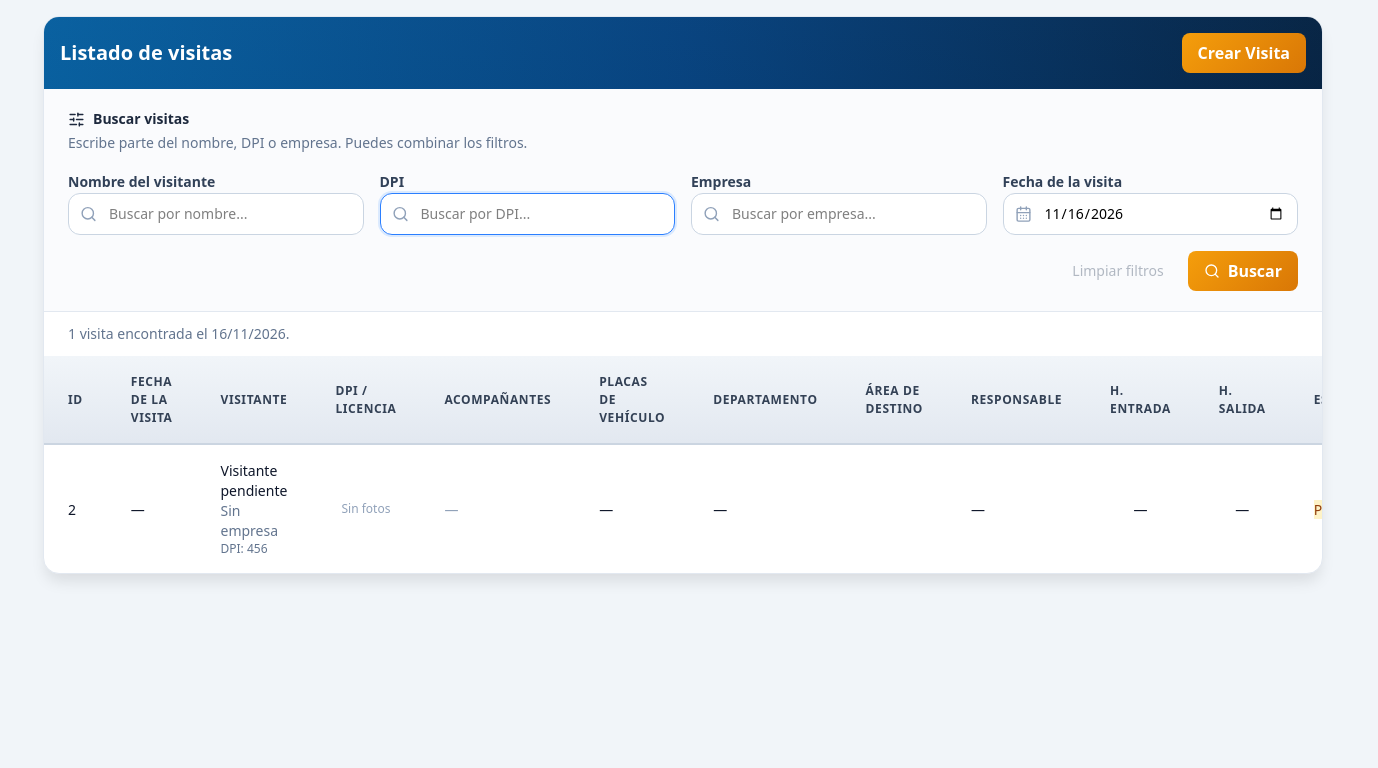
vigencia del estado de las visitas › permite seguir escribiendo en Buscar por DPI... mientras se consulta el filtro
Later steps or results of the test are not shown.
Step 1. Type "1" into the field with placeholder "Buscar por DPI..." → {"x": 527, "y": 214}, box [380,193,675,235]
Wait 450 ms
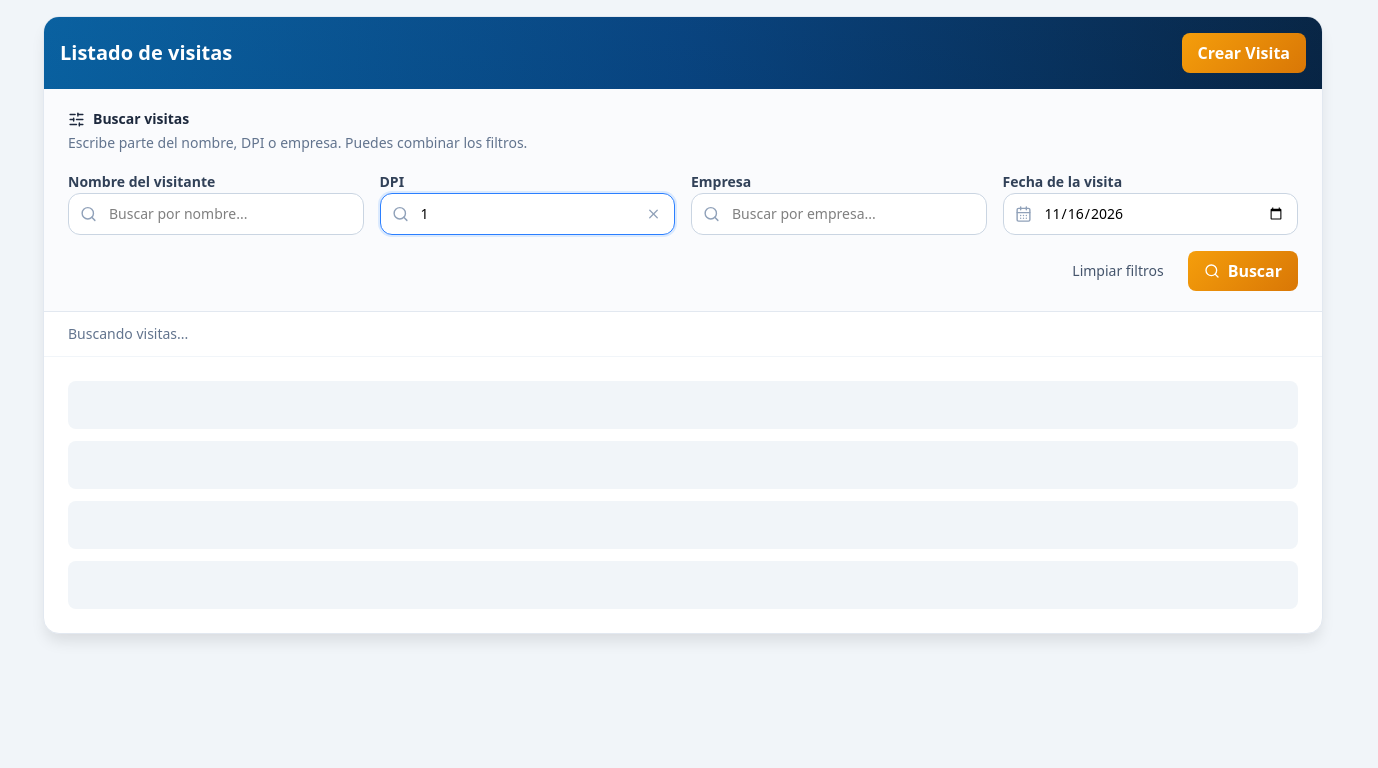
Expected: the message reads "Buscando visitas...", [68,324,188,343]
